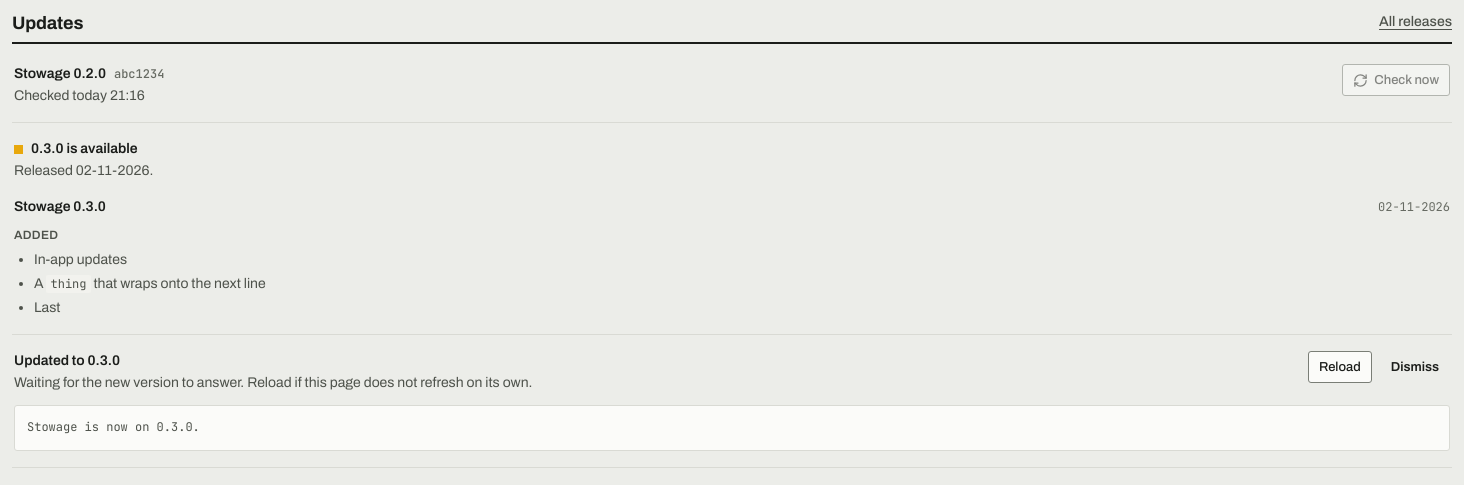
Scenario: UpdatesSection › offers Reload after success and lets you stop following a run
expect the text "Updated to 0.3.0" is shown: met, box [14,353,120,368]
expect the button "Reload" is shown: met, box [1308,351,1372,383]
Click the button "Dismiss" at (1415,367), box [1380,351,1450,383]
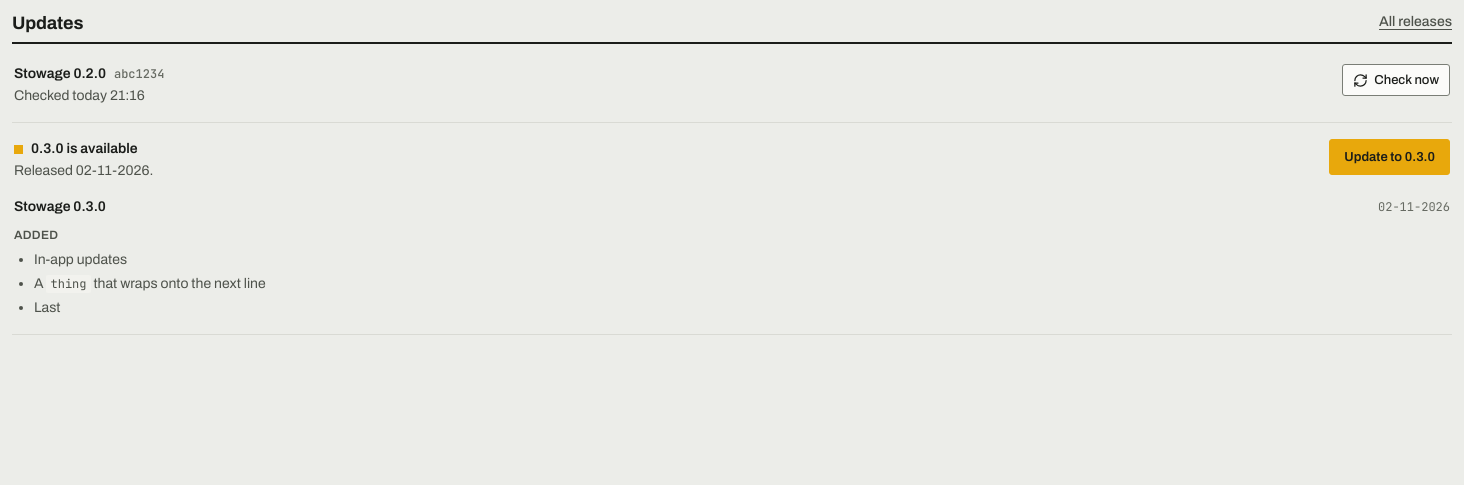
expect the text "Updated to 0.3.0" is gone: met
